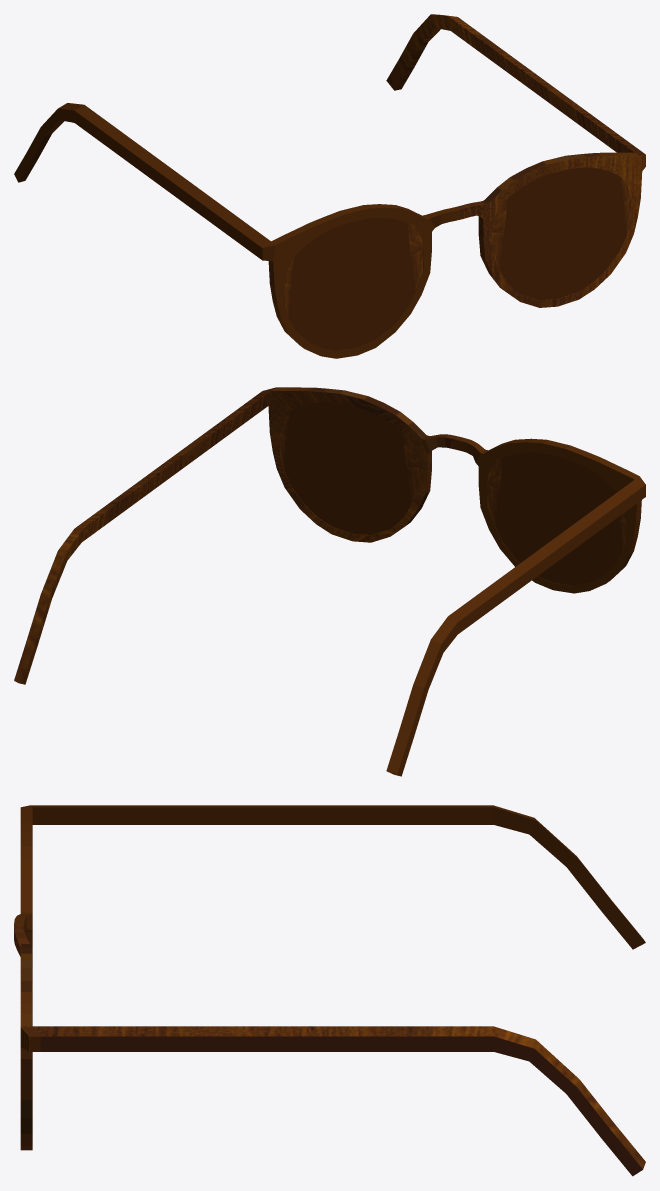
The model's file is cxz.glb.
3 renders of one model, top to bottom at view 1: azimuth 30°, elevation 25°; view 2: azimuth 150°, elevation 25°; view 3: azimuth 270°, elevation 25°, orthographic. The views are drawn at different scales.
Bounding box in the file's own units: 3.82 × 1.37 × 4.42.
1 material, 1 textured.
